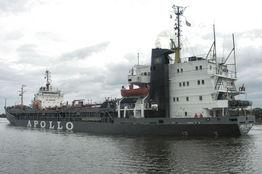Cargoship: (1, 6, 259, 134)
